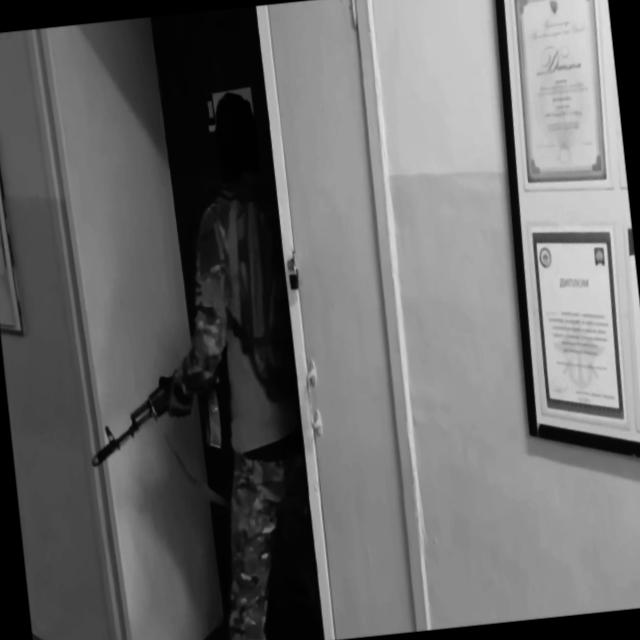gun: (80, 350, 230, 466)
person with a gun: (53, 83, 322, 640)
